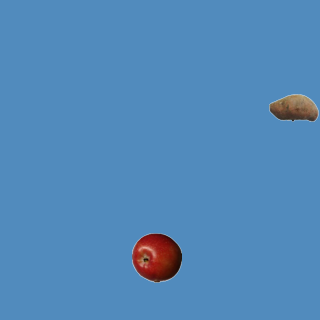Apple Braeburn: (131, 232, 181, 282)
Potato Sweet: (268, 82, 318, 132)
